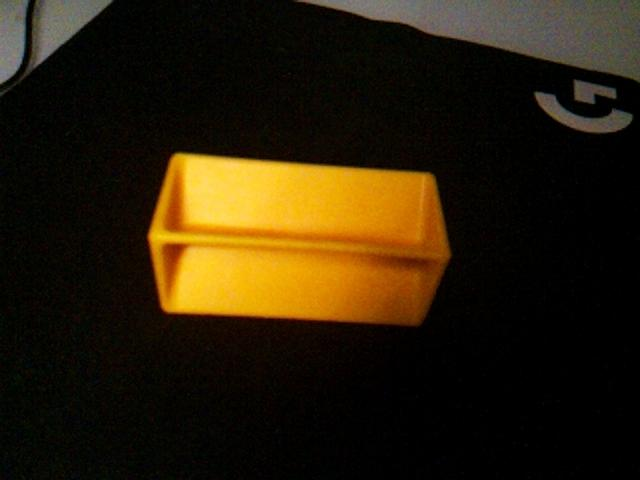yellow: (147, 150, 453, 328)
